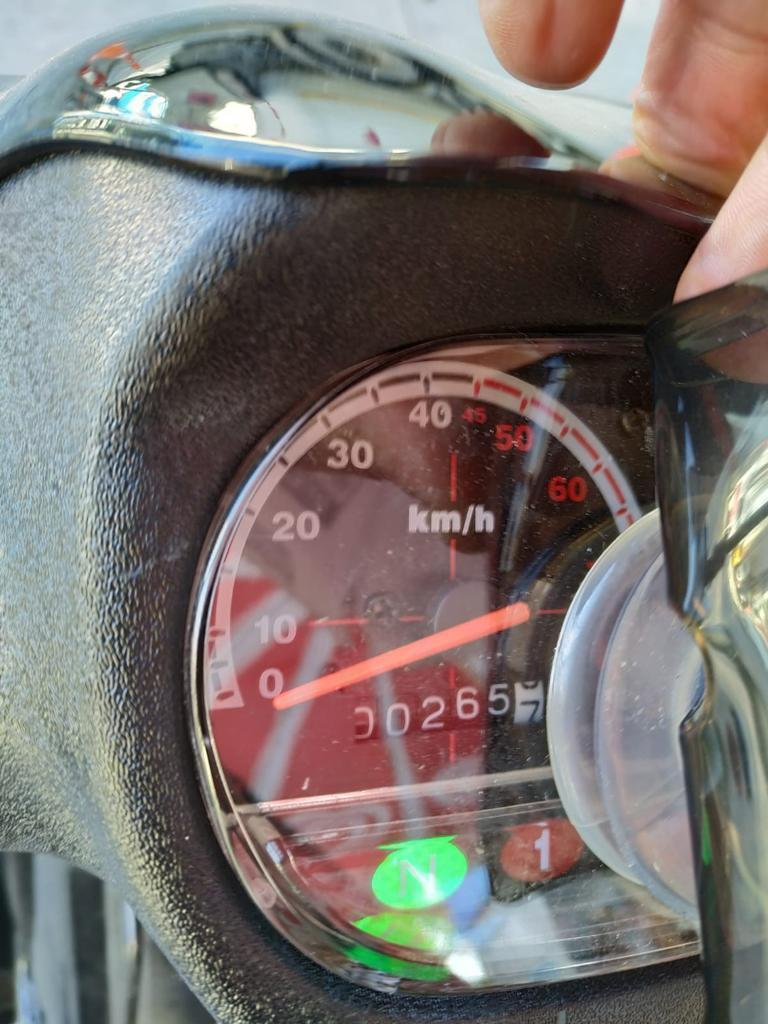0: (385, 702, 410, 737), (350, 706, 375, 741)
2: (420, 695, 445, 731)
5: (487, 682, 510, 715)
6: (455, 686, 480, 720)
7: (519, 699, 540, 726)
odometer: (351, 676, 545, 745)
